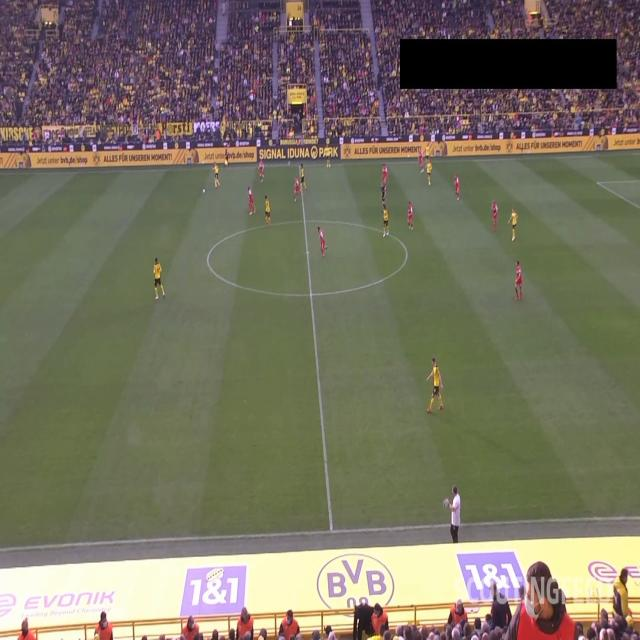ball: (202, 188, 205, 194)
